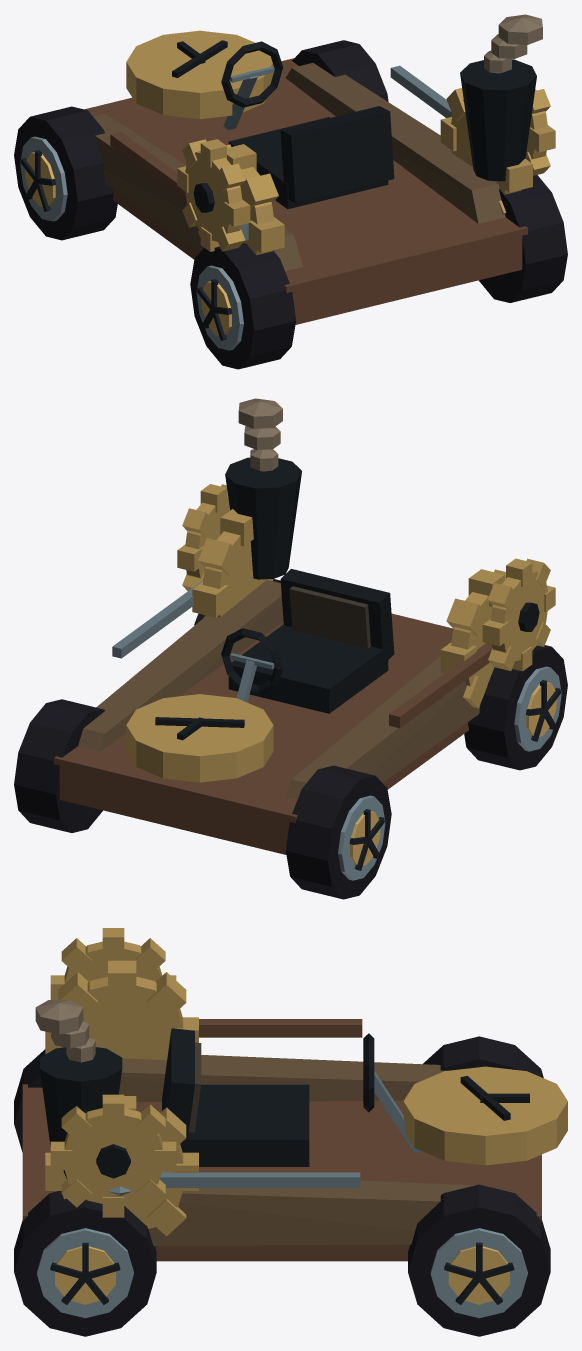
Rendered from kart.glb.
3 views of the same model, one above another, from view 1: azimuth 30°, elevation 25°; view 2: azimuth 150°, elevation 25°; view 3: azimuth 270°, elevation 25° (orthographic). The views are drawn at different scales.
Visible parts, largest first — view 1: identity-clockwork-clockwork-brass-escapement, identity-clockwork-driver-cockpit, wheel-rear-left, wheel-front-left, identity-clockwork-motif-steam, identity-clockwork-motif-gears, wheel-rear-right, identity-clockwork-motif-tools, wheel-front-right; view 2: identity-clockwork-clockwork-brass-escapement, identity-clockwork-driver-cockpit, wheel-front-left, identity-clockwork-motif-gears, wheel-rear-left, identity-clockwork-motif-steam, wheel-front-right, identity-clockwork-motif-tools; view 3: identity-clockwork-clockwork-brass-escapement, wheel-front-right, wheel-rear-right, identity-clockwork-motif-gears, identity-clockwork-driver-cockpit, identity-clockwork-motif-steam, identity-clockwork-motif-tools, wheel-front-left, wheel-rear-left.
Part boxes in pixels (x1,y1,x2,y2): identity-clockwork-clockwork-brass-escapement: (84, 30, 532, 324); identity-clockwork-driver-cockpit: (221, 41, 394, 209); wheel-rear-left: (190, 243, 295, 369); wheel-front-left: (14, 106, 117, 240); identity-clockwork-motif-steam: (460, 14, 542, 181); identity-clockwork-motif-gears: (177, 89, 555, 251); wheel-rear-right: (479, 175, 567, 302); identity-clockwork-motif-tools: (110, 65, 452, 240); wheel-front-right: (292, 40, 388, 101); identity-clockwork-clockwork-brass-escapement: (54, 509, 505, 854); identity-clockwork-driver-cockpit: (221, 569, 394, 713); wheel-front-left: (286, 765, 391, 899); identity-clockwork-motif-gears: (177, 484, 555, 671); wheel-rear-left: (464, 645, 567, 770); identity-clockwork-motif-steam: (225, 398, 301, 579); wheel-front-right: (14, 699, 104, 832); identity-clockwork-motif-tools: (112, 578, 491, 728); identity-clockwork-clockwork-brass-escapement: (22, 960, 567, 1261); wheel-front-right: (408, 1184, 550, 1336); wheel-rear-right: (14, 1191, 156, 1336); identity-clockwork-motif-gears: (50, 928, 176, 1217); identity-clockwork-driver-cockpit: (162, 1028, 423, 1166); identity-clockwork-motif-steam: (35, 1000, 122, 1179); identity-clockwork-motif-tools: (107, 1019, 362, 1195); wheel-front-left: (422, 1036, 543, 1078); wheel-rear-left: (14, 1049, 45, 1152).
Bounding box in the file's own units: 1.99 × 1.63 × 2.56.
